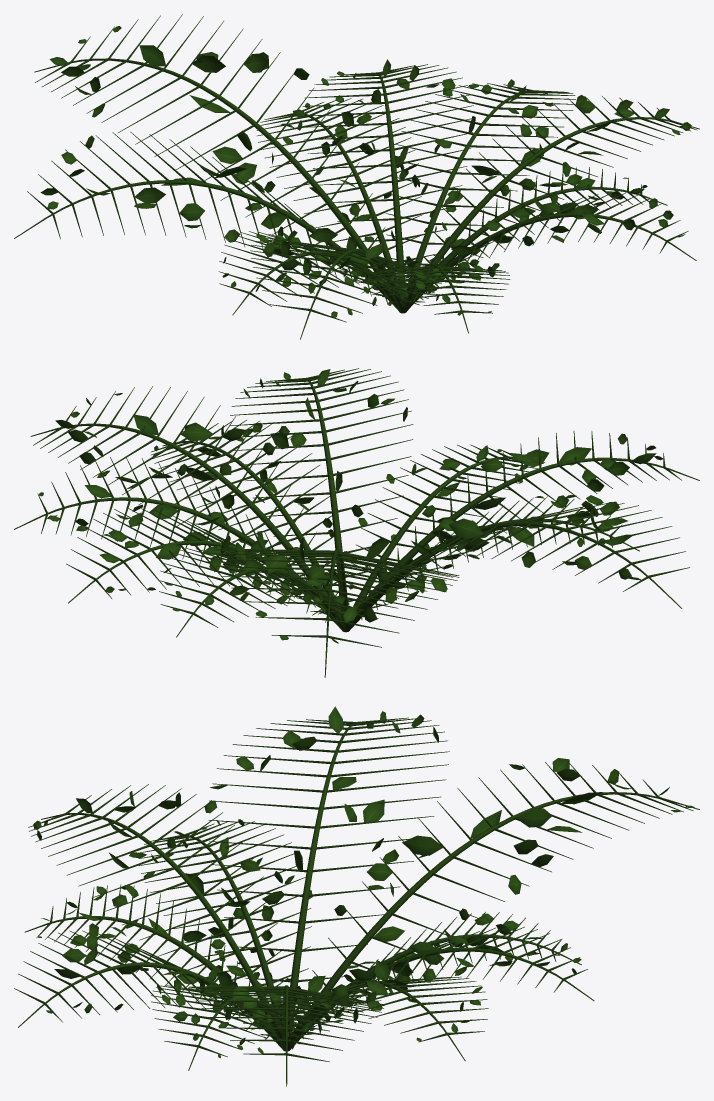
File: fern_small_lod2.gltf
3 renders of one model, top to bottom at view 1: azimuth 30°, elevation 25°; view 2: azimuth 150°, elevation 25°; view 3: azimuth 270°, elevation 25°, orthographic. The views are drawn at different scales.
Visible parts, largest first — view 1: fern_small_lod2; view 2: fern_small_lod2; view 3: fern_small_lod2.
Boxes of the visible parts, x1,y1,x2,y2 form: fern_small_lod2: (14, 14, 699, 339); fern_small_lod2: (14, 368, 699, 677); fern_small_lod2: (14, 706, 699, 1086).
Size of the model in its own units: 1.69 by 0.4736 by 1.45.
1 material, 1 textured.
